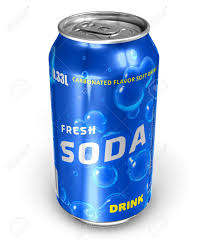can: (46, 8, 162, 232)
